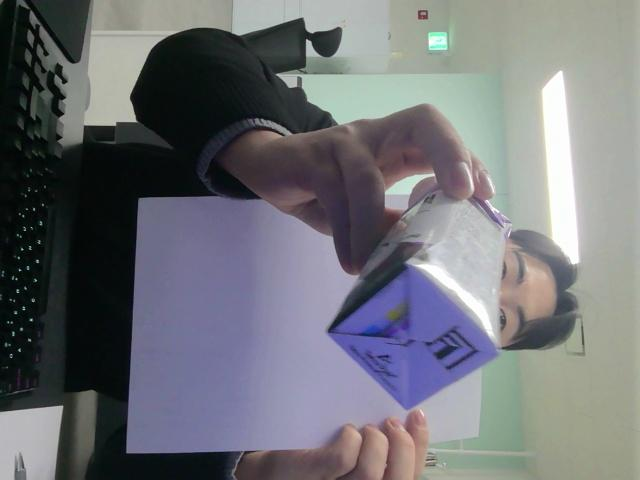milk: (327, 186, 510, 408)
